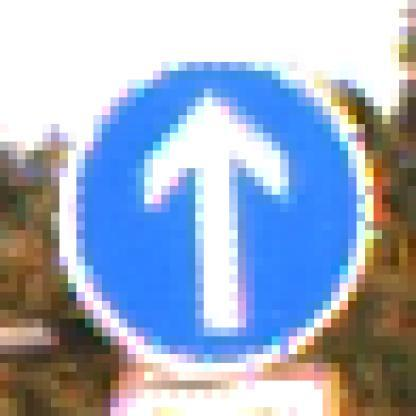straight: (60, 44, 374, 372)
